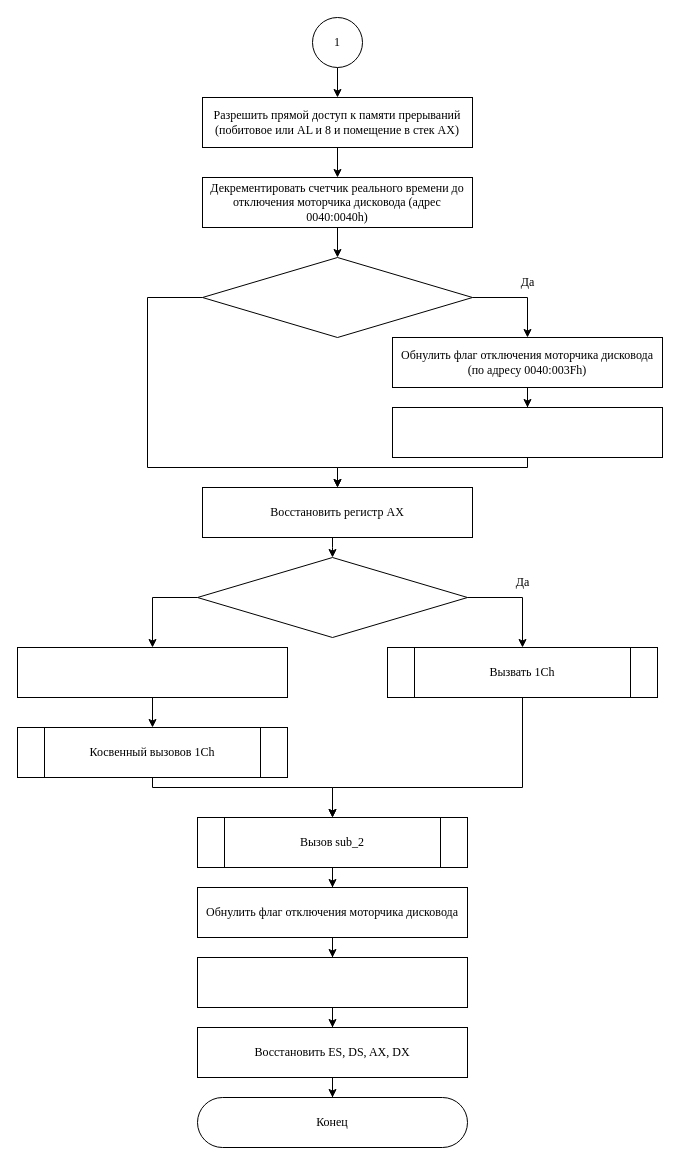
The diagram is 680 pixels wide and 1165 high, and some of its shapes have lost their labels. Each missing label, with the centre of its shape:
"Значение счетчка времени до отключения моторчика дисковода равен 0?" goes at (x=337, y=297).
"Посылка команды 0Ch в порт 3F2h для отключения счетчика дисковода" goes at (x=527, y=432).
"Сброс контроллера прерываний. Запись команды в порт 20h в порт 20h" goes at (x=332, y=982).
"Сохранить контекст (lahf)" goes at (x=152, y=672).
"Флаг четности PF равен 0?" goes at (x=332, y=597).
